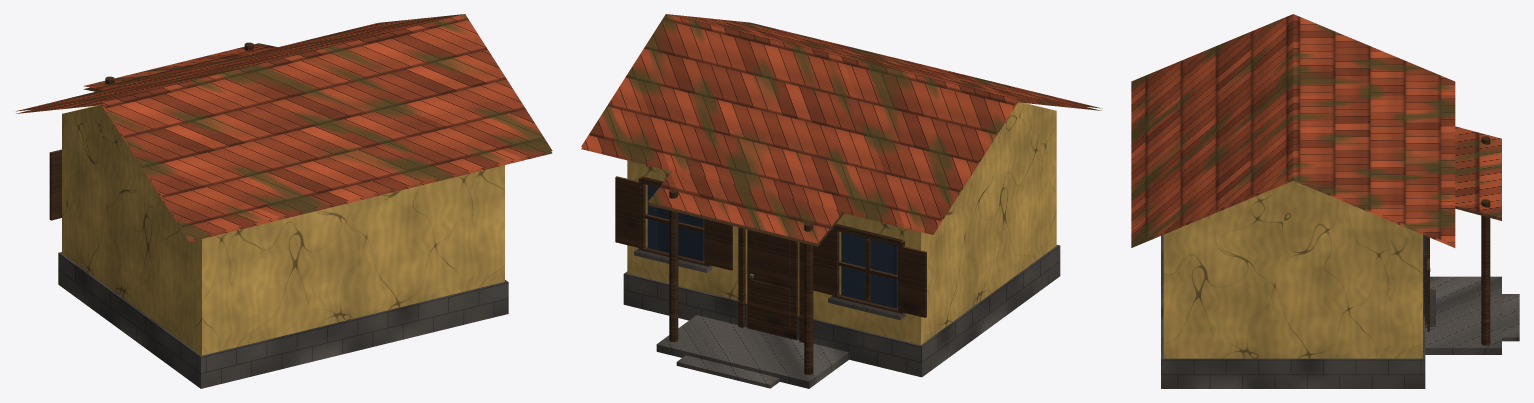
File: casa_b.obj
The picture shows the model from 3 angles, left to right: view 1: azimuth 30°, elevation 25°; view 2: azimuth 150°, elevation 25°; view 3: azimuth 270°, elevation 25°; orthographic projection. The views are drawn at different scales.
Parts seen in each view (by area): view 1: casa_b; view 2: casa_b; view 3: casa_b.
Boxes of the visible parts, x1,y1,x2,y2 form: casa_b: (16, 14, 552, 388); casa_b: (581, 14, 1102, 388); casa_b: (1131, 14, 1519, 388).
Size of the model in its own units: 6 by 3.8 by 5.99.
5 materials, 5 textured.
